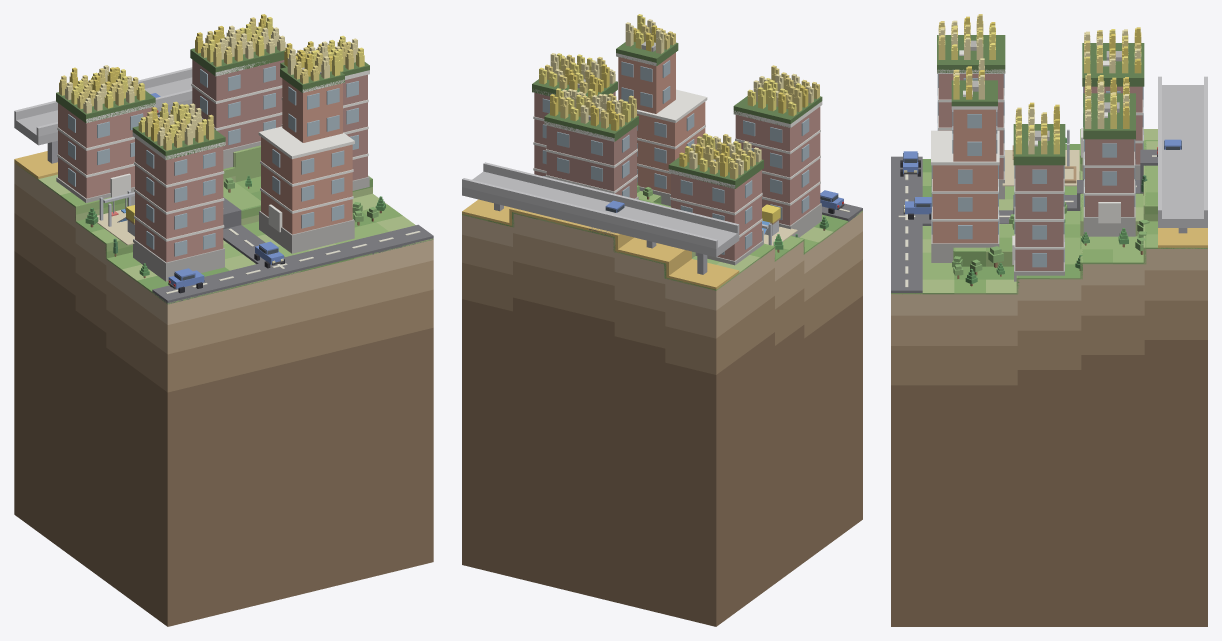
File: block_6_urbanfarm_60.glb
3 views of the same model, side by side, from view 1: azimuth 30°, elevation 25°; view 2: azimuth 150°, elevation 25°; view 3: azimuth 270°, elevation 25° (orthographic). The views are drawn at different scales.
Parts seen in each view (by area): view 1: Patch_UpperLeft_b01_UF, Res_UL_04_UF, Res_UL_01_UF, Green_UpperLeft_j4_b01_UF, Res_UL_00_UF, Res_UL_02_UF, Roads_UpperLeft_b01_UF, Bridge_UpperLeft_b01_UF, Res_UL_03_UF, Playground_UpperLeft_UF, UFR_Res_UL_00_UF, UFR_Res_UL_02_UF (+4 smaller); view 2: Patch_UpperLeft_b01_UF, Bridge_UpperLeft_b01_UF, Res_UL_04_UF, Res_UL_01_UF, Res_UL_02_UF, Res_UL_00_UF, Paver_UpperLeft_b01_UF, Green_UpperLeft_j4_b01_UF, Res_UL_03_UF, UFR_Res_UL_02_UF, UFR_Res_UL_00_UF, UFR_Res_UL_01_UF (+2 smaller); view 3: Patch_UpperLeft_b01_UF, Green_UpperLeft_j4_b01_UF, Res_UL_04_UF, Bridge_UpperLeft_b01_UF, Res_UL_03_UF, Res_UL_02_UF, Roads_UpperLeft_b01_UF, Res_UL_01_UF, UFR_Res_UL_01_UF, UFR_Res_UL_00_UF, UFR_Res_UL_02_UF, UFR_Res_UL_03_UF (+6 smaller).
Part boxes in pixels (x1=…): Patch_UpperLeft_b01_UF: x1=14, y1=163, x2=433, y2=626; Res_UL_04_UF: x1=258, y1=67, x2=354, y2=253; Res_UL_01_UF: x1=132, y1=132, x2=225, y2=281; Green_UpperLeft_j4_b01_UF: x1=16, y1=145, x2=433, y2=304; Res_UL_00_UF: x1=56, y1=103, x2=155, y2=205; Res_UL_02_UF: x1=191, y1=59, x2=284, y2=168; Roads_UpperLeft_b01_UF: x1=152, y1=113, x2=433, y2=303; Bridge_UpperLeft_b01_UF: x1=14, y1=67, x2=192, y2=163; Res_UL_03_UF: x1=281, y1=70, x2=369, y2=190; Playground_UpperLeft_UF: x1=97, y1=190, x2=134, y2=245; UFR_Res_UL_00_UF: x1=56, y1=90, x2=155, y2=122; UFR_Res_UL_02_UF: x1=190, y1=46, x2=285, y2=75; Patch_UpperLeft_b01_UF: x1=462, y1=212, x2=862, y2=626; Bridge_UpperLeft_b01_UF: x1=462, y1=162, x2=739, y2=274; Res_UL_04_UF: x1=616, y1=41, x2=707, y2=206; Res_UL_01_UF: x1=733, y1=101, x2=822, y2=237; Res_UL_02_UF: x1=544, y1=115, x2=638, y2=199; Res_UL_00_UF: x1=668, y1=159, x2=763, y2=265; Paver_UpperLeft_b01_UF: x1=462, y1=199, x2=739, y2=290; Green_UpperLeft_j4_b01_UF: x1=462, y1=191, x2=862, y2=290; Res_UL_03_UF: x1=533, y1=79, x2=615, y2=176; UFR_Res_UL_02_UF: x1=544, y1=111, x2=638, y2=141; UFR_Res_UL_00_UF: x1=668, y1=153, x2=763, y2=188; UFR_Res_UL_01_UF: x1=733, y1=96, x2=822, y2=127; Patch_UpperLeft_b01_UF: x1=891, y1=249, x2=1207, y2=626; Green_UpperLeft_j4_b01_UF: x1=891, y1=129, x2=1207, y2=294; Res_UL_04_UF: x1=931, y1=80, x2=999, y2=262; Bridge_UpperLeft_b01_UF: x1=1158, y1=76, x2=1207, y2=233; Res_UL_03_UF: x1=1012, y1=130, x2=1064, y2=281; Res_UL_02_UF: x1=1083, y1=102, x2=1135, y2=236; Roads_UpperLeft_b01_UF: x1=891, y1=149, x2=1157, y2=292; Res_UL_01_UF: x1=937, y1=40, x2=1005, y2=199; UFR_Res_UL_01_UF: x1=937, y1=35, x2=1005, y2=73; UFR_Res_UL_00_UF: x1=1082, y1=43, x2=1144, y2=86; UFR_Res_UL_02_UF: x1=1083, y1=93, x2=1135, y2=139; UFR_Res_UL_03_UF: x1=1013, y1=124, x2=1065, y2=165.
Size of the model in its own units: 9.5 by 17.17 by 9.5.
